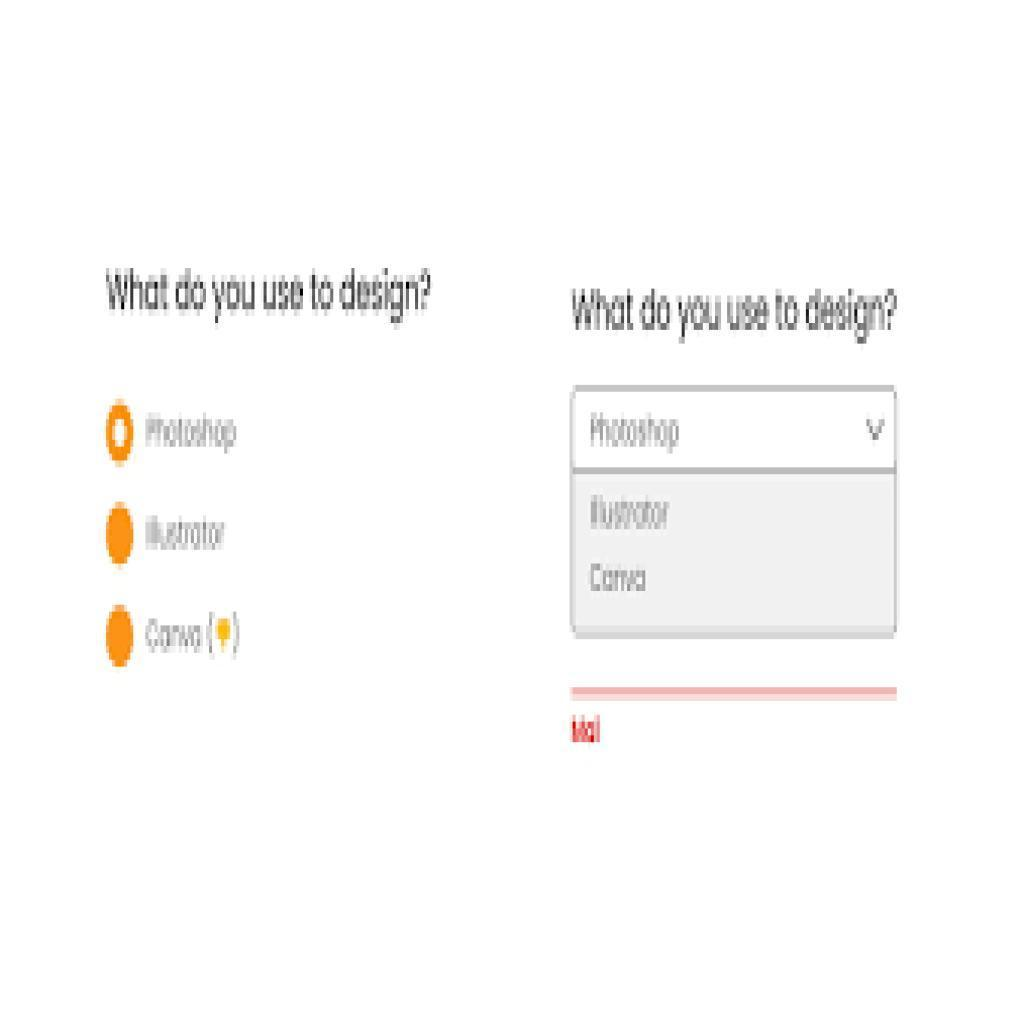dropdown: (570, 385, 901, 472)
